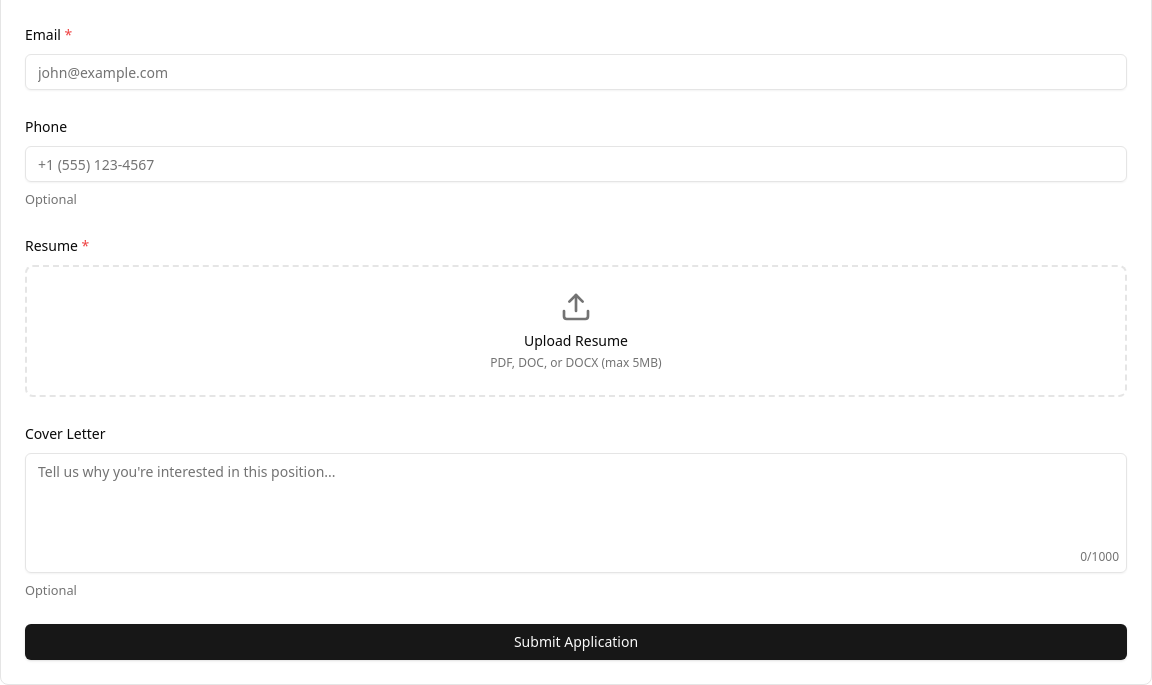
ApplicationSection › shows validation errors for required fields
This screenshot has width=1152, height=685.
(page scrolled)
# Try to submit without filling required fields
Click the button "Submit Application" at point(576, 642), box [25, 624, 1127, 660]
(page scrolled)
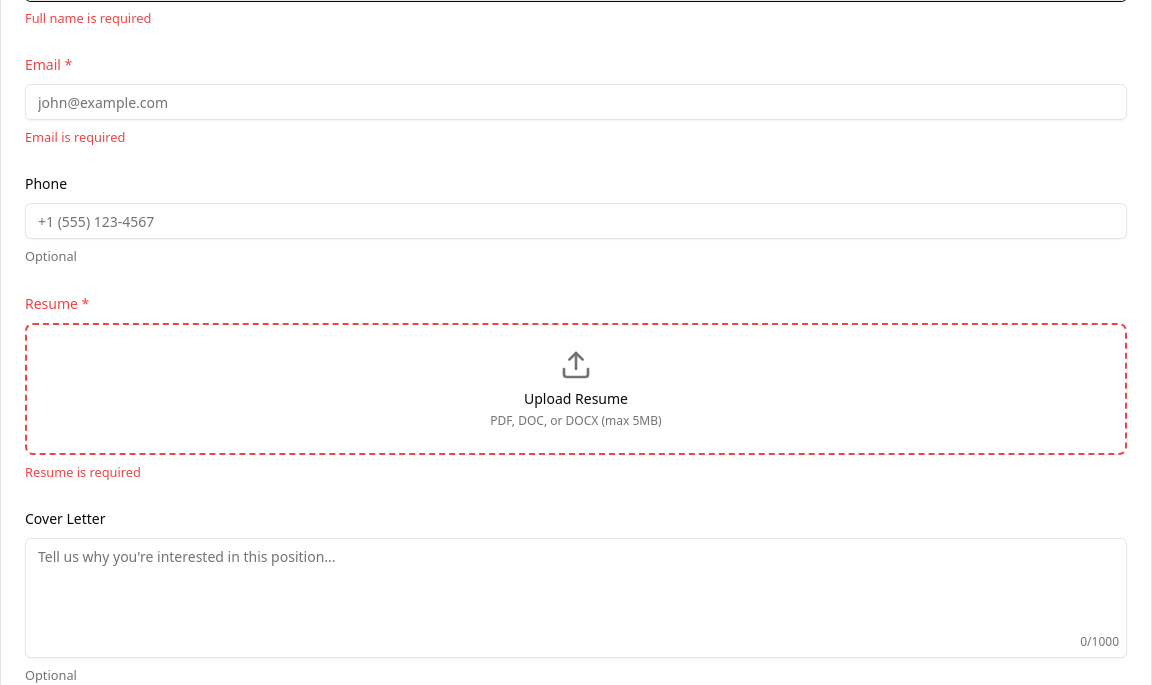
Result: the text "Full name is required" is shown at [25, 9, 151, 27]
Result: the text "Email is required" is shown at [25, 128, 125, 146]
